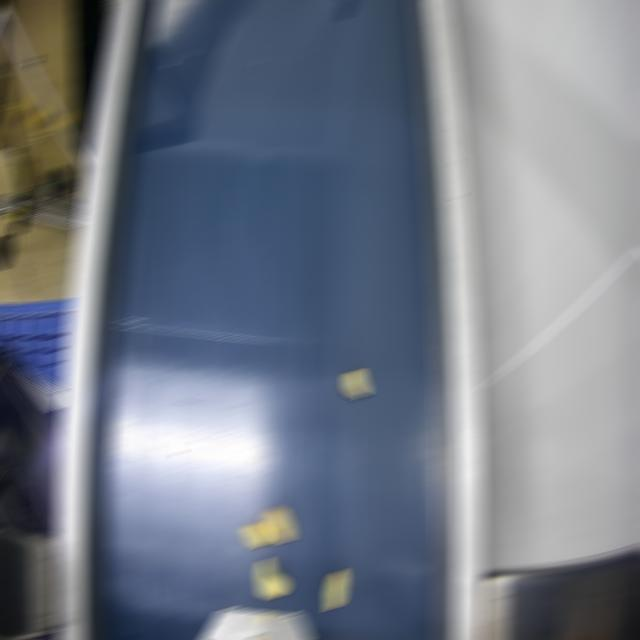Baby Potato: (257, 560, 286, 598), (263, 507, 292, 543), (326, 568, 345, 609), (243, 523, 270, 547), (345, 370, 366, 398)
